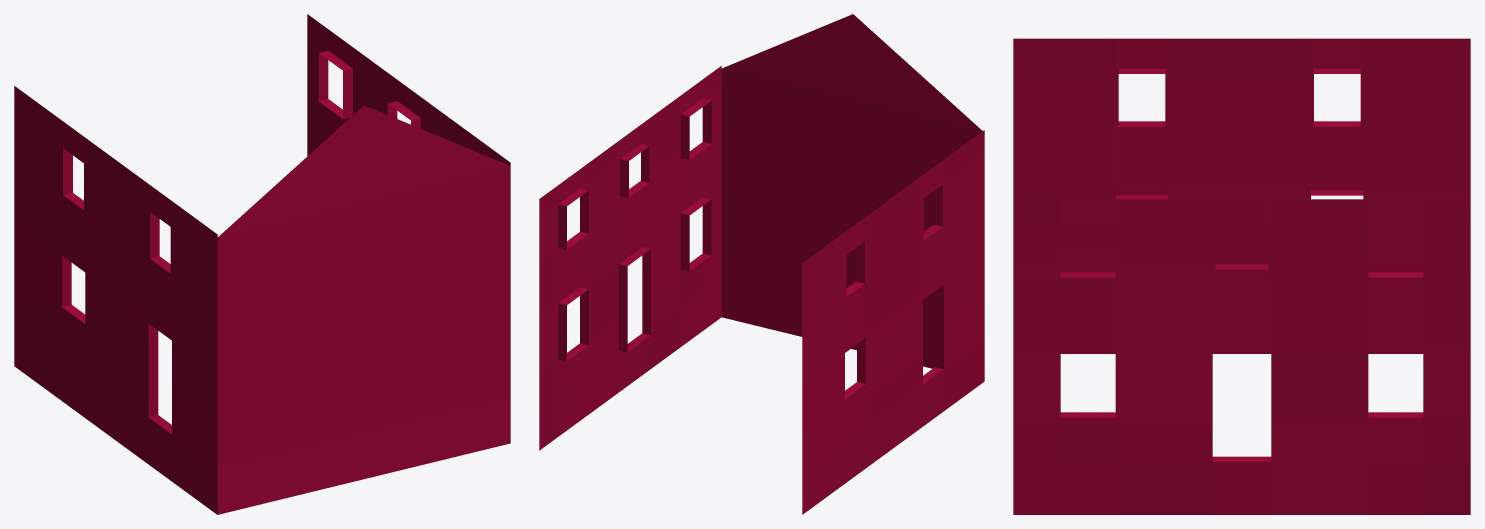
Rendered from SM_Bld_103_Masonry.glb.
3 renders of one model, left to right at view 1: azimuth 30°, elevation 25°; view 2: azimuth 150°, elevation 25°; view 3: azimuth 270°, elevation 25°, orthographic. The views are drawn at different scales.
Parts seen in each view (by area): view 1: SM_Bld_103_Masonry; view 2: SM_Bld_103_Masonry; view 3: SM_Bld_103_Masonry.
Part boxes in pixels (box(x1,y1,x2,y2)): SM_Bld_103_Masonry: box(14, 14, 510, 514); SM_Bld_103_Masonry: box(539, 14, 984, 514); SM_Bld_103_Masonry: box(1013, 38, 1470, 514).
Size of the model in its own units: 6.53 by 7.96 by 7.84.
